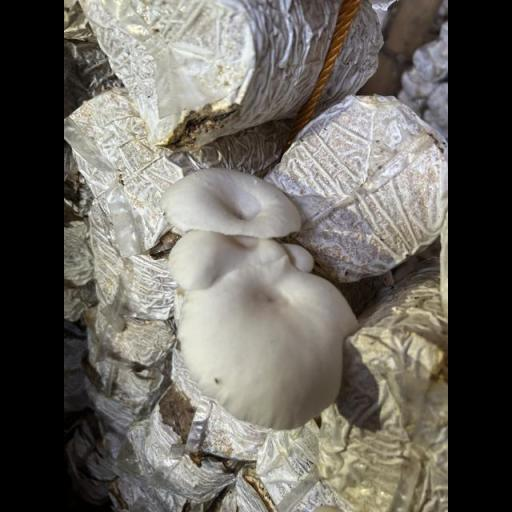White Oyster Mushroom: (150, 171, 376, 445)
